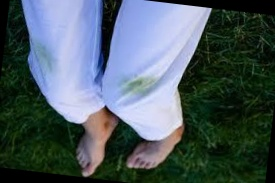earth: (124, 78, 150, 94), (35, 47, 52, 68)
